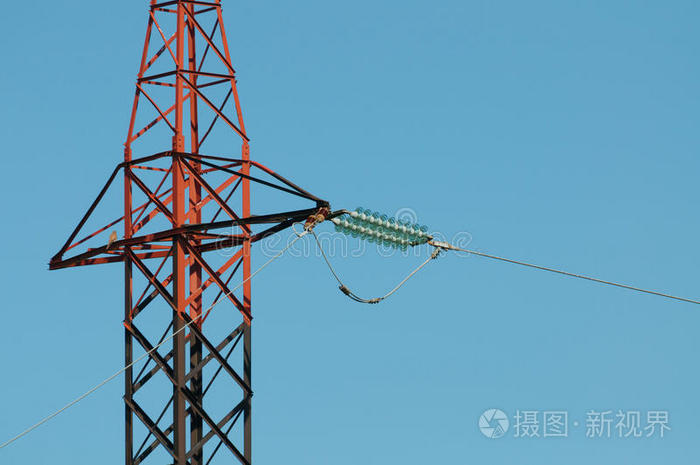insulator: (334, 207, 429, 254)
